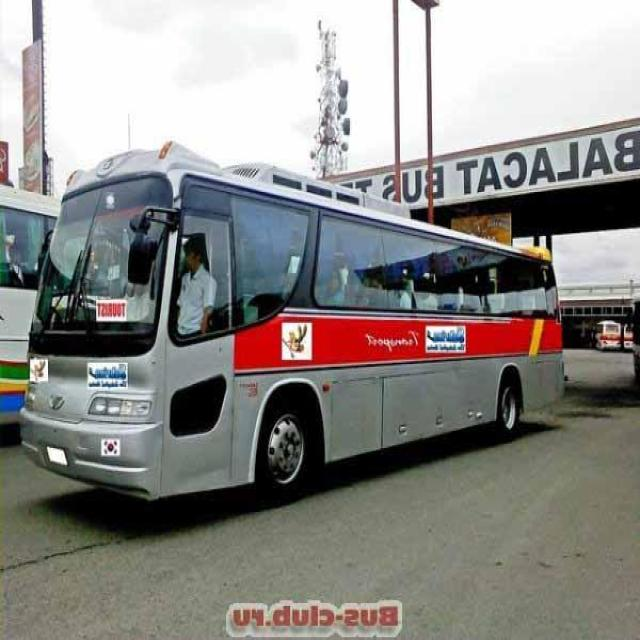bus: (15, 139, 570, 510)
